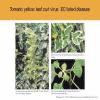Tomato leaf yellow virus: (72, 61, 84, 79), (72, 30, 84, 46), (64, 24, 73, 36), (54, 38, 61, 52), (60, 62, 68, 72), (61, 38, 67, 49)
